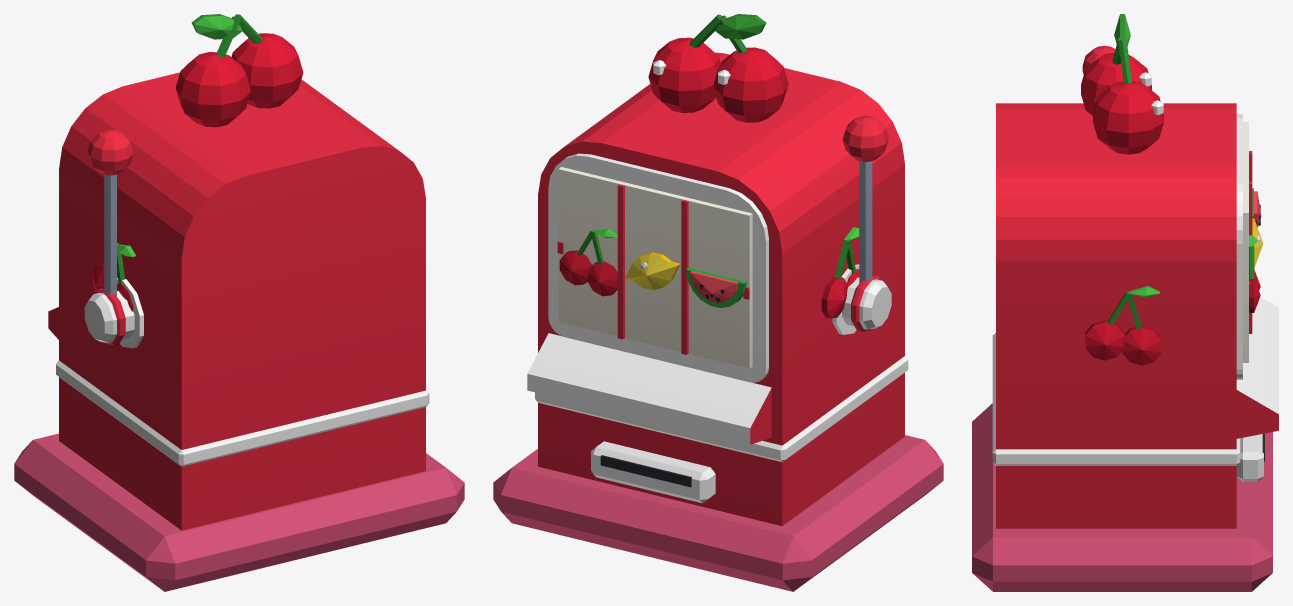
Rendered from LuckyFruitsMachine.fbx.
The picture shows the model from 3 angles, left to right: view 1: azimuth 30°, elevation 25°; view 2: azimuth 150°, elevation 25°; view 3: azimuth 270°, elevation 25°; orthographic projection.
Visible parts, largest first — view 1: Cabinet, Base, Topper, Lever; view 2: Cabinet, Screen, Base, Topper, Lever; view 3: Cabinet, Base, Topper, Screen.
Boxes of the visible parts, bbox=[...] form: Cabinet: bbox=[48, 72, 429, 530]; Base: bbox=[14, 433, 464, 591]; Topper: bbox=[175, 14, 303, 127]; Lever: bbox=[84, 129, 134, 345]; Cabinet: bbox=[527, 52, 908, 526]; Screen: bbox=[557, 167, 752, 368]; Base: bbox=[493, 435, 943, 591]; Topper: bbox=[648, 14, 788, 122]; Lever: bbox=[842, 116, 891, 331]; Cabinet: bbox=[992, 103, 1278, 528]; Base: bbox=[972, 403, 1272, 591]; Topper: bbox=[1081, 14, 1163, 154]; Screen: bbox=[1243, 121, 1263, 362].
Size of the model in its own units: 6 by 9.04 by 5.1.
2 materials, 1 textured.
